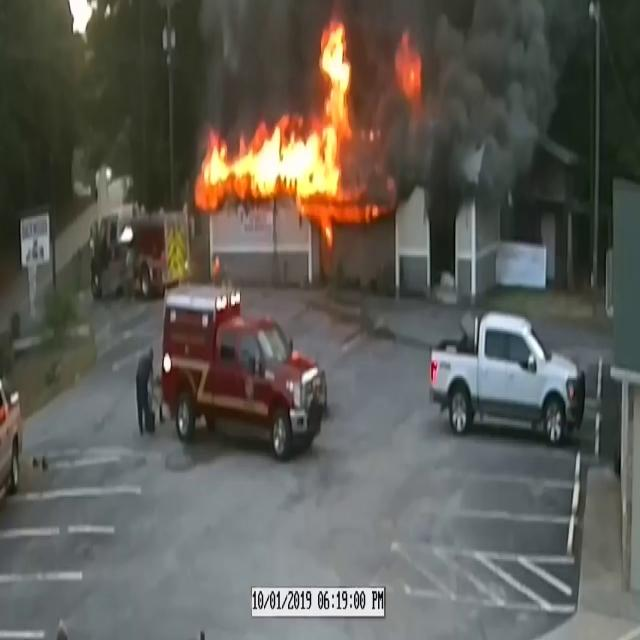Fire: (200, 20, 364, 218)
Smoke: (380, 0, 570, 233)
